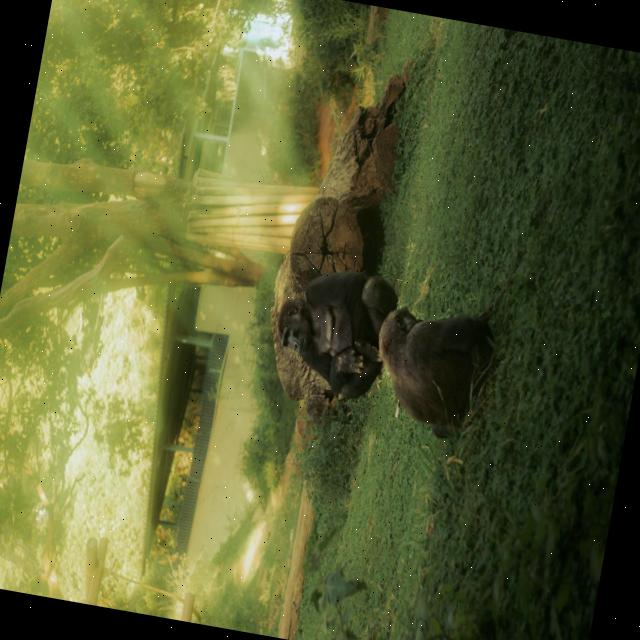Gorilla: (363, 294, 502, 444), (266, 256, 404, 404)
